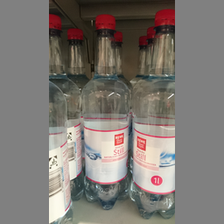water: (81, 13, 132, 211), (130, 9, 176, 224), (49, 12, 81, 199)
